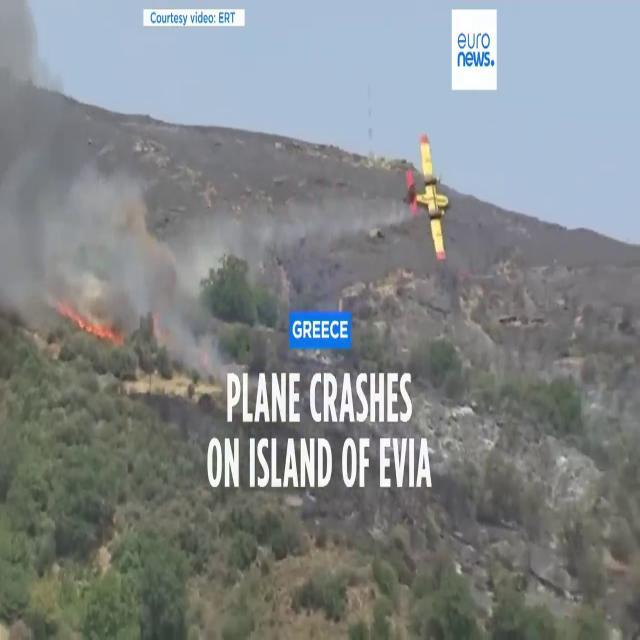Smoke: (1, 9, 216, 391)
